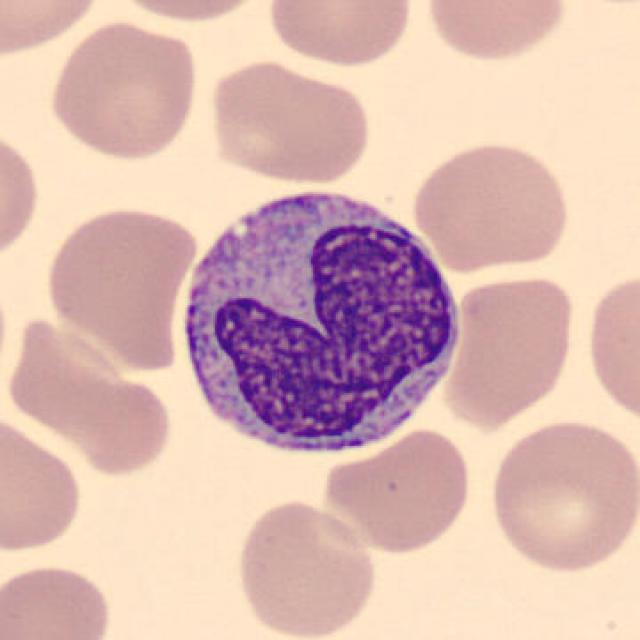Monocyte: (167, 173, 471, 472)
RBC: (41, 201, 199, 372), (11, 321, 176, 480), (484, 414, 638, 575), (407, 136, 574, 275), (44, 18, 201, 164), (203, 56, 375, 187), (439, 270, 578, 430), (231, 495, 381, 640), (320, 425, 476, 555), (0, 410, 85, 557), (265, 0, 418, 71), (420, 0, 572, 65), (0, 559, 117, 640), (582, 265, 638, 430), (0, 0, 108, 60), (0, 122, 43, 268), (105, 0, 274, 26)
